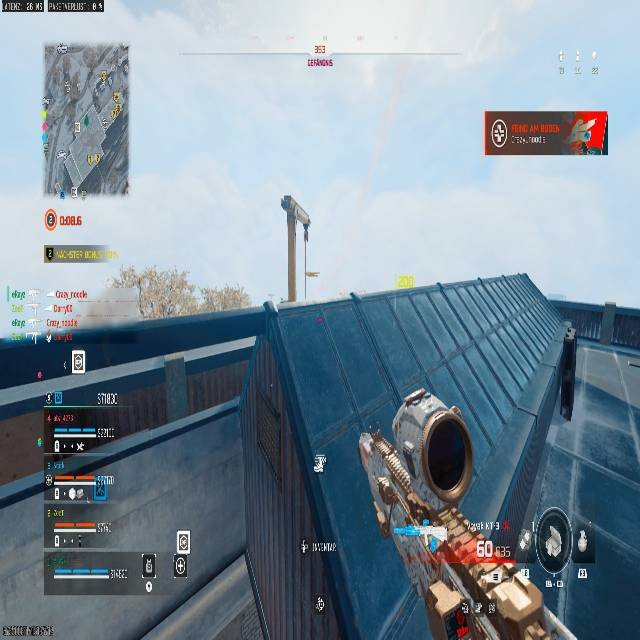player: (279, 194, 311, 242)
